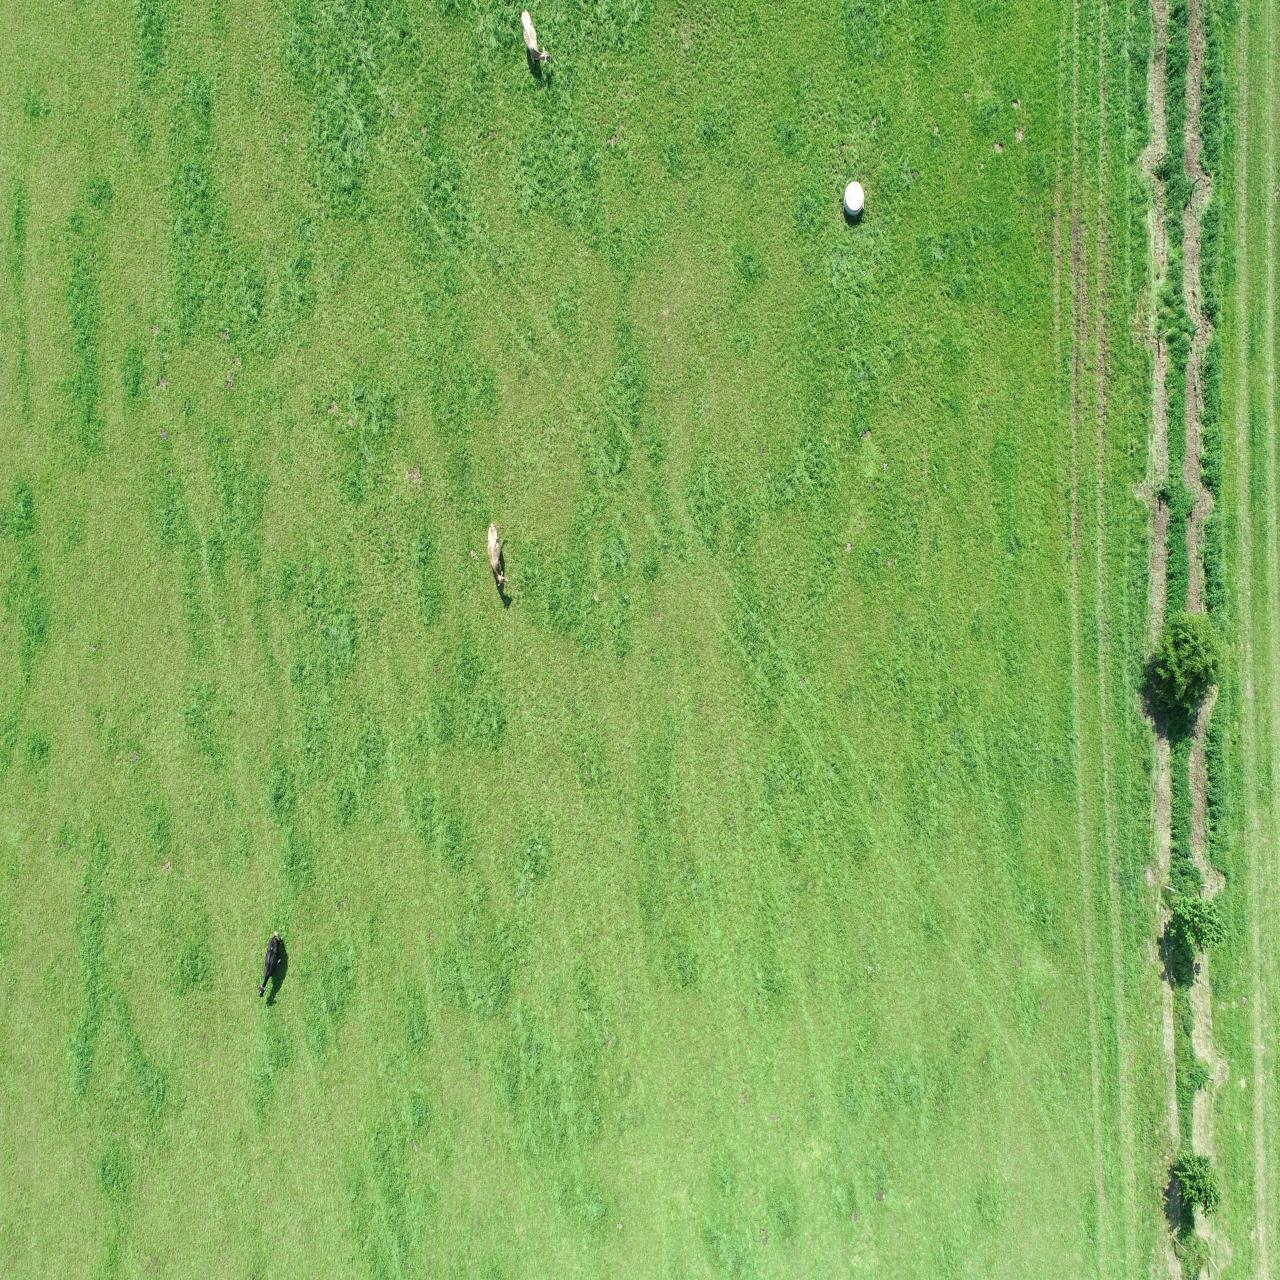cow: (256, 930, 285, 1003), (518, 7, 553, 68), (483, 522, 512, 592)
